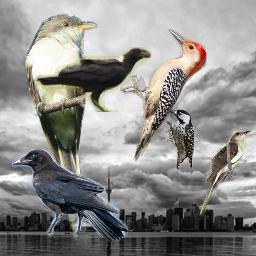Crow: (12, 149, 128, 241), (35, 47, 152, 112)
Cuckoo: (25, 13, 98, 239), (200, 130, 251, 215)
Woodpecker: (120, 29, 209, 161), (164, 109, 194, 172)
